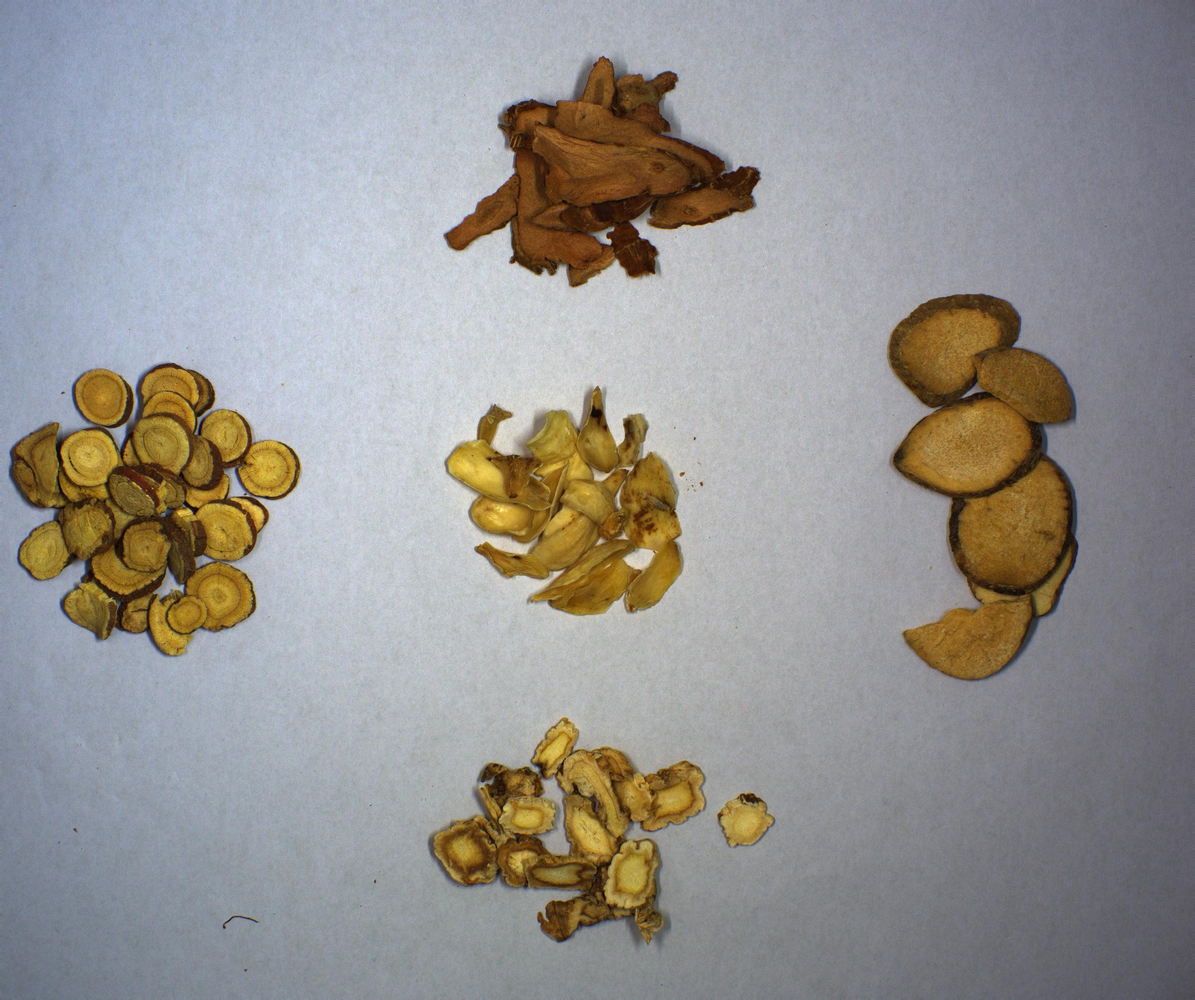baihe: (446, 385, 684, 622)
gancao: (9, 364, 302, 662)
gaoliangjiang: (442, 56, 760, 289)
jiegeng: (427, 716, 777, 949)
zexie: (886, 289, 1080, 682)
